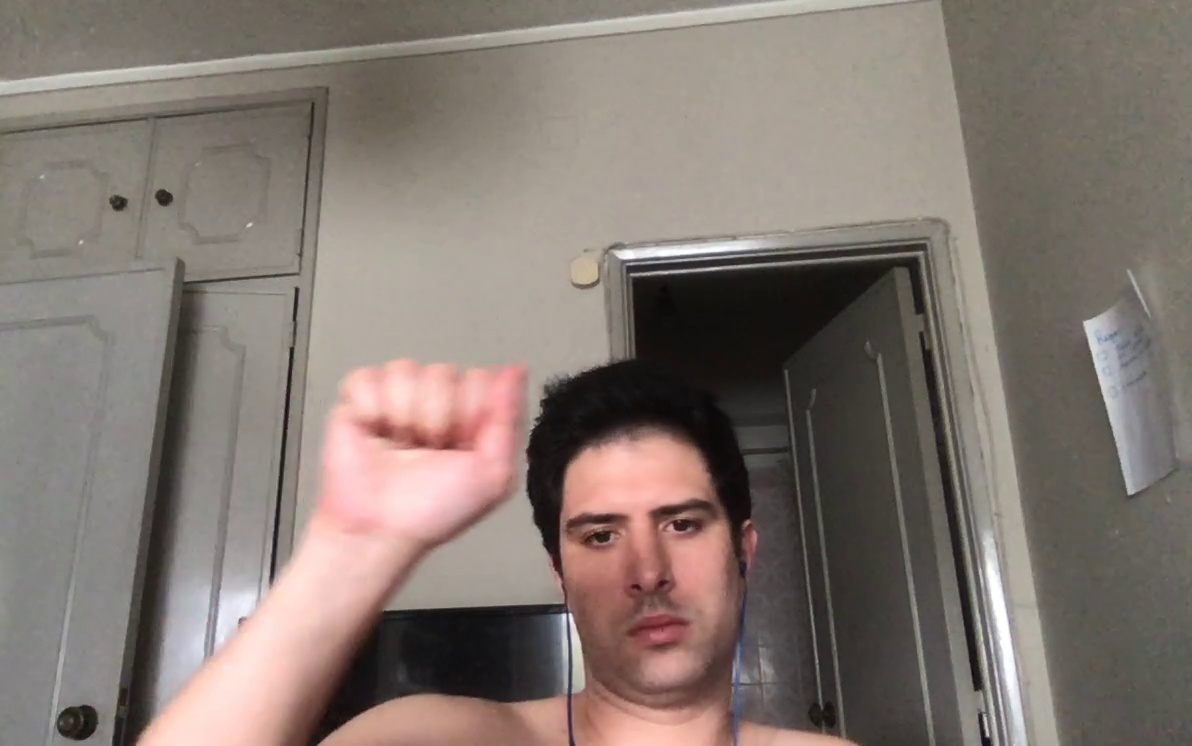a: (298, 350, 547, 544)
